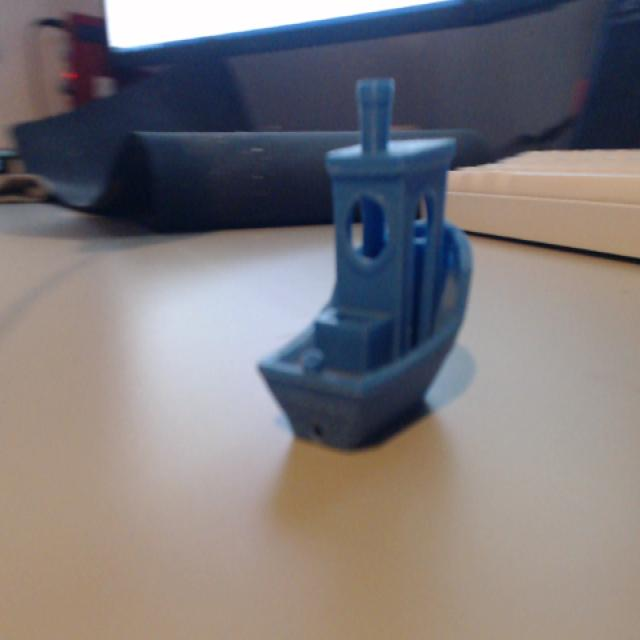benchy: (254, 73, 476, 451)
